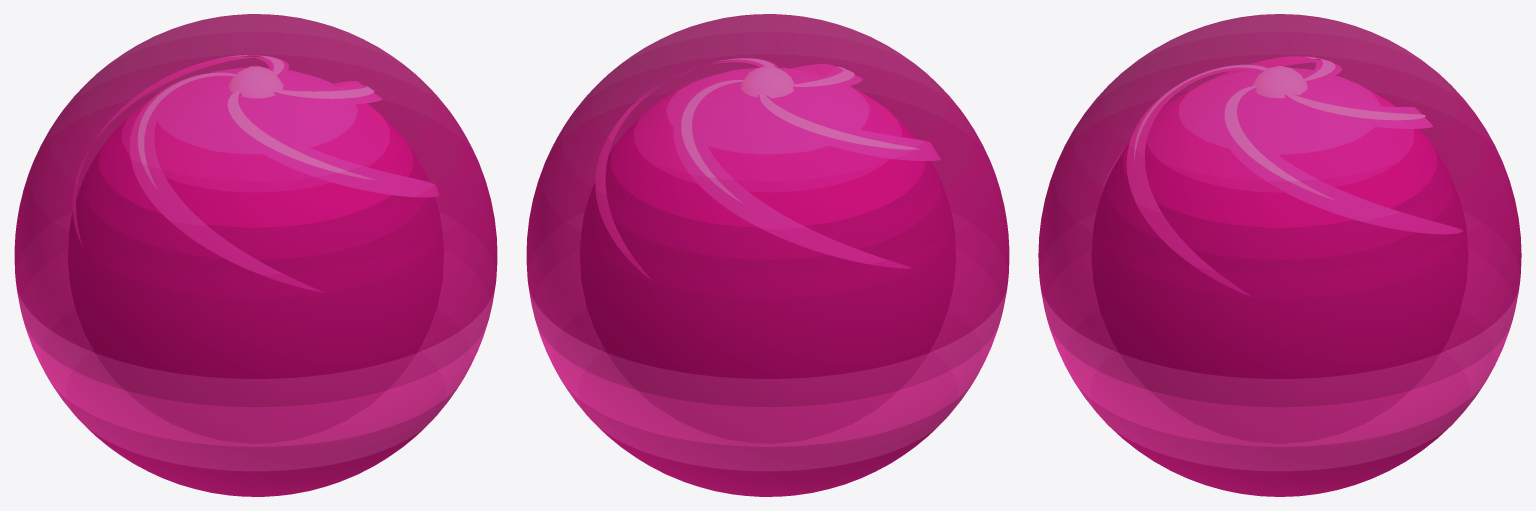
Rendered from purpleball.glb.
3 views of the same model, side by side, from view 1: azimuth 30°, elevation 25°; view 2: azimuth 150°, elevation 25°; view 3: azimuth 270°, elevation 25° (orthographic).
Visible parts, largest first — view 1: glass, core; view 2: glass, core; view 3: glass, core.
Part boxes in pixels (x1,y1,x2,y2): glass: (14, 14, 497, 496); core: (68, 55, 443, 442); glass: (526, 14, 1009, 496); core: (580, 58, 955, 442); glass: (1038, 14, 1521, 496); core: (1092, 56, 1467, 443).
Bounding box in the file's own units: 20.5 × 20.5 × 20.5.
